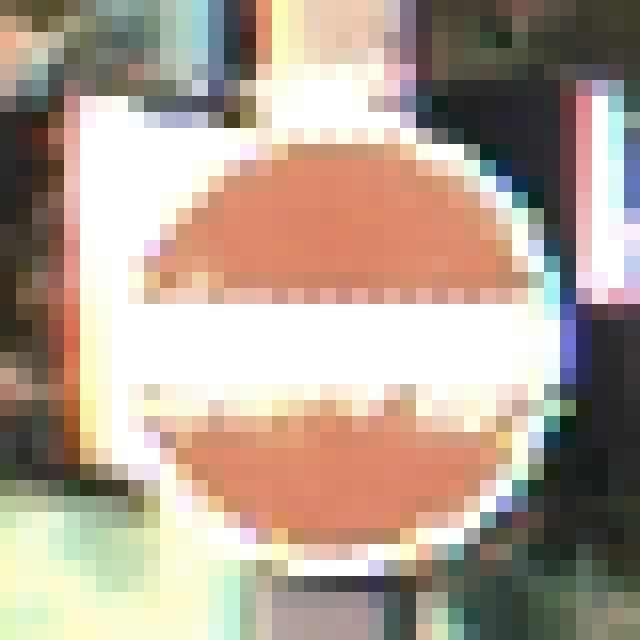No Entry: (97, 97, 545, 545)
